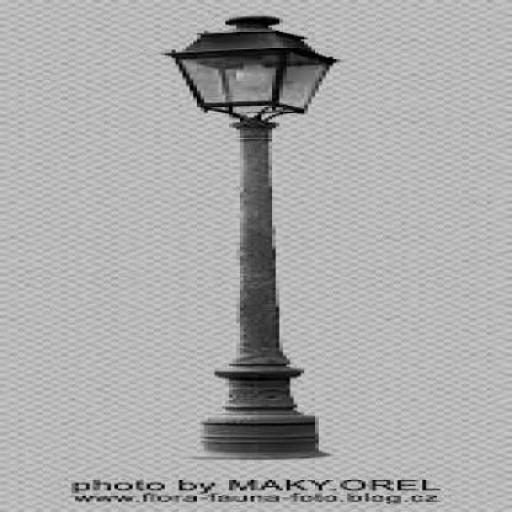street light: (162, 11, 340, 461)
